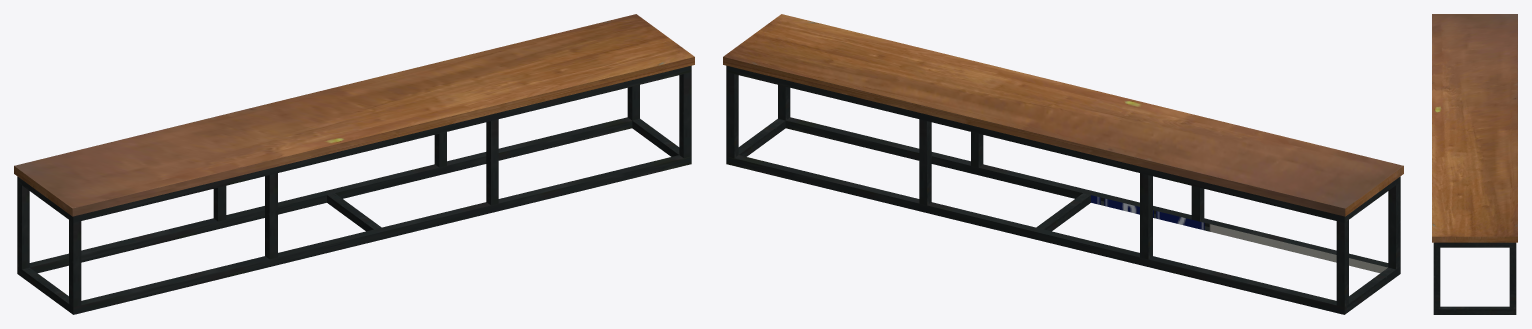
The model's file is Bench.fbx.
The picture shows the model from 3 angles, left to right: view 1: azimuth 30°, elevation 25°; view 2: azimuth 150°, elevation 25°; view 3: azimuth 270°, elevation 25°; orthographic projection. The views are drawn at different scales.
Visible parts, largest first — view 1: Plane; view 2: Plane; view 3: Plane.
Part boxes in pixels (box(x1,y1,x2,y2)): Plane: box(14, 14, 694, 314); Plane: box(723, 14, 1403, 314); Plane: box(1432, 14, 1517, 314).
Bounding box in the file's own units: 953 × 158 × 155.
Materials: 1 (1 with a texture image).
